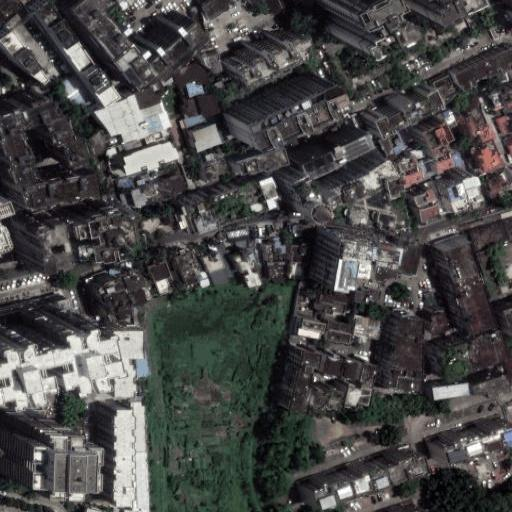building: (35, 0, 120, 107), (225, 70, 328, 139), (300, 450, 415, 503), (184, 178, 280, 235), (0, 297, 70, 366), (445, 244, 495, 336), (229, 26, 305, 77), (100, 91, 170, 143), (133, 1, 195, 59), (317, 153, 389, 202), (442, 331, 511, 380), (148, 25, 210, 79), (360, 82, 429, 129), (426, 414, 504, 454), (24, 174, 98, 213), (0, 31, 50, 88), (73, 213, 136, 258), (123, 171, 189, 211), (315, 0, 376, 43), (455, 46, 512, 91), (105, 401, 127, 501), (388, 311, 418, 383), (122, 140, 180, 176), (36, 222, 76, 274), (134, 202, 186, 242), (280, 343, 312, 407), (181, 155, 231, 191), (88, 274, 123, 321), (321, 119, 366, 155), (414, 118, 452, 160), (475, 245, 503, 301), (374, 9, 413, 48), (240, 148, 290, 177), (469, 218, 512, 249), (295, 176, 325, 217), (292, 137, 330, 169), (136, 401, 147, 510), (62, 74, 93, 109), (173, 251, 202, 287), (317, 226, 375, 244), (203, 251, 230, 287), (173, 66, 209, 92), (311, 250, 341, 281), (474, 375, 512, 399), (191, 122, 222, 151), (112, 330, 144, 358), (294, 283, 318, 320), (148, 260, 174, 294), (395, 242, 420, 277), (351, 315, 386, 340), (197, 91, 222, 125), (359, 364, 378, 407), (462, 176, 487, 208), (237, 255, 261, 288), (288, 246, 310, 280), (429, 72, 454, 101), (291, 317, 322, 340), (446, 184, 470, 213), (266, 245, 287, 278), (431, 383, 469, 401), (485, 170, 512, 195), (314, 293, 347, 313), (307, 347, 334, 371), (330, 350, 354, 375), (489, 87, 512, 113), (397, 167, 423, 190), (122, 270, 146, 294), (392, 129, 414, 155), (414, 188, 439, 210), (204, 49, 225, 75), (481, 144, 502, 170), (325, 323, 352, 343), (397, 152, 420, 174), (497, 298, 512, 330), (419, 203, 443, 223), (181, 113, 206, 132), (430, 311, 450, 334), (308, 389, 330, 409), (385, 177, 405, 199), (461, 114, 479, 138), (357, 286, 380, 304), (183, 96, 202, 117), (326, 389, 343, 412), (379, 138, 396, 161), (127, 288, 147, 307), (497, 113, 512, 138), (470, 107, 486, 130), (377, 213, 397, 231), (226, 227, 250, 240), (346, 386, 360, 408), (348, 209, 367, 224), (375, 262, 396, 275), (188, 84, 207, 98), (438, 158, 454, 173), (412, 145, 427, 160), (444, 111, 458, 127), (124, 139, 142, 151), (478, 127, 491, 142), (120, 177, 135, 190), (134, 358, 144, 377), (234, 240, 250, 251), (155, 131, 168, 142), (144, 135, 156, 145), (143, 173, 151, 182), (394, 137, 401, 145), (123, 510, 138, 512), (138, 510, 150, 512)
